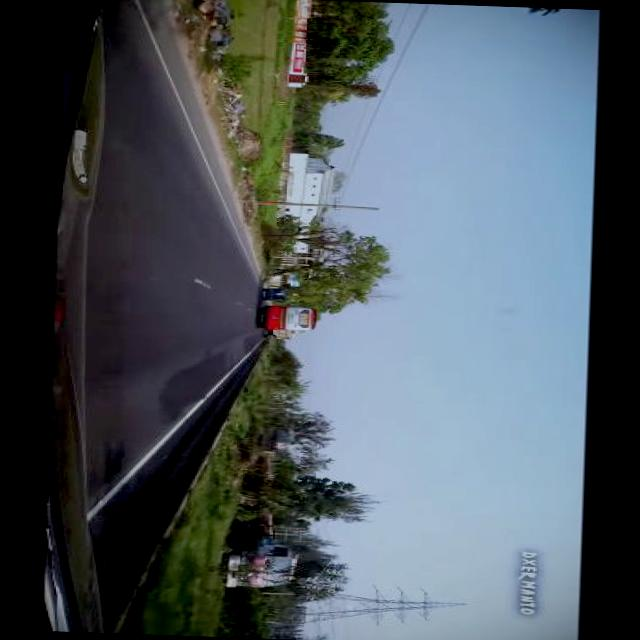bus: (262, 303, 318, 330)
truck: (223, 452, 304, 588), (266, 328, 296, 338), (264, 287, 287, 300)
